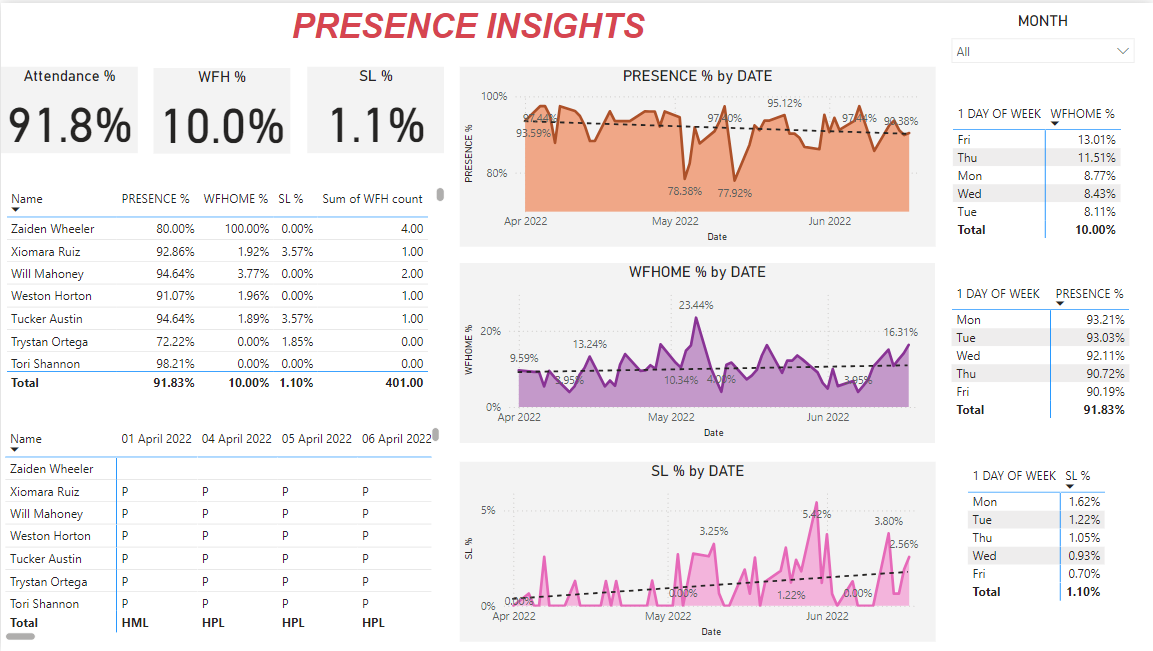

This screenshot's page, from the dashboard's own definition file:
{"tool":"powerbi","page":{"name":"Page 1","canvas":[1280,720],"ordinal":0},"visuals":[{"type":"slicer","title":"MONTH","fields":{"Values":["Final data.1 month","Final data.Date"]},"box":[1045.5,10.4,223.4,70.1],"z":0},{"type":"tableEx","fields":{"Values":["Final data.Name","Measure table.presence %","Measure table.wfhome %","Measure table.SL %","Final data.WFH count"]},"box":[0,200,497.4,239],"z":1000},{"type":"textbox","box":[0,0,1037.7,54.5],"z":2000},{"type":"pivotTable","fields":{"Rows":["Final data.Name"],"Values":["Final data.Value"],"Columns":["Final data.Date"]},"box":[0,466.2,492.2,246.8],"z":3000},{"type":"areaChart","title":"PRESENCE % by DATE","fields":{"Y":["Measure table.PRESENCE %"],"Category":["Final data.Date"]},"box":[509.1,71.4,528.6,200],"z":4000},{"type":"areaChart","title":"WFHOME % by DATE","fields":{"Category":["Final data.Date"],"Y":["Measure table.WFHOME %"]},"box":[509.4,289.5,528.1,200],"z":5000},{"type":"areaChart","title":"SL % by DATE","fields":{"Category":["Final data.Date"],"Y":["Measure table.SL %"]},"box":[509.1,510.4,528.6,200],"z":6000},{"type":"card","title":"Attendance %","fields":{"Values":["Measure table.PRESENCE %"]},"box":[0,71.4,152.4,95.9],"z":7000},{"type":"card","title":"WFH %","fields":{"Values":["Measure table.WFHOME %"]},"box":[170.1,72.1,152.4,95.2],"z":8000},{"type":"card","title":"SL %","fields":{"Values":["Measure table.SL %"]},"box":[340.3,71.4,152.3,96.1],"z":9000},{"type":"pivotTable","fields":{"Rows":["Final data.1 DAY OF WEEK"],"Values":["Measure table.PRESENCE %"]},"box":[1051.9,306.5,209.1,175.3],"z":10000},{"type":"pivotTable","fields":{"Rows":["Final data.1 DAY OF WEEK"],"Values":["Measure table.WFHOME %"]},"box":[1053.2,106.5,207.8,168.8],"z":11000},{"type":"pivotTable","fields":{"Rows":["Final data.1 DAY OF WEEK"],"Values":["Measure table.SL %"]},"box":[1070.1,510.4,174,164.9],"z":12000}]}

Visuals, with their boxes in screenshot pixels (x1, y1, x2, y2), scaled from the page's 1280x720 canvas onto the 1153x651 screenshot:
"MONTH" slicer: box=[942, 9, 1143, 73]
tableEx - Final data.Name x Measure table.presence %: box=[0, 181, 448, 397]
textbox: box=[0, 0, 935, 49]
pivotTable - Final data.Name x Final data.Value: box=[0, 422, 443, 645]
"PRESENCE % by DATE" areaChart: box=[459, 65, 935, 245]
"WFHOME % by DATE" areaChart: box=[459, 262, 935, 443]
"SL % by DATE" areaChart: box=[459, 461, 935, 642]
"Attendance %" card: box=[0, 65, 137, 151]
"WFH %" card: box=[153, 65, 291, 151]
"SL %" card: box=[307, 65, 444, 151]
pivotTable - Final data.1 DAY OF WEEK x Measure table.PRESENCE %: box=[948, 277, 1136, 436]
pivotTable - Final data.1 DAY OF WEEK x Measure table.WFHOME %: box=[949, 96, 1136, 249]
pivotTable - Final data.1 DAY OF WEEK x Measure table.SL %: box=[964, 461, 1121, 611]
